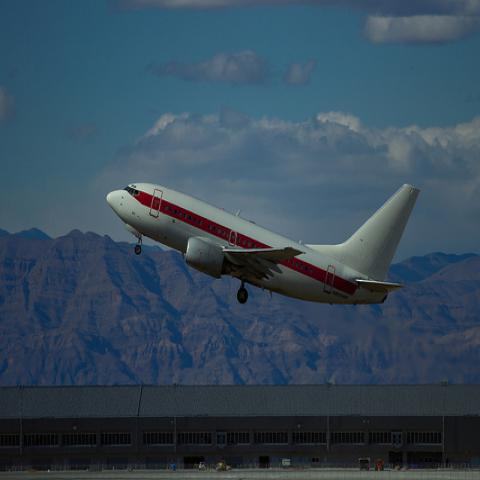truck: (358, 457, 370, 470)
